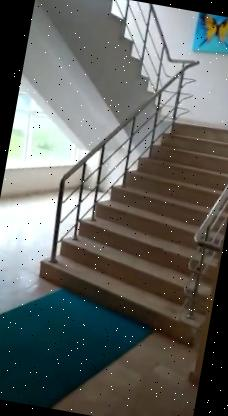stair: (34, 92, 228, 348)
